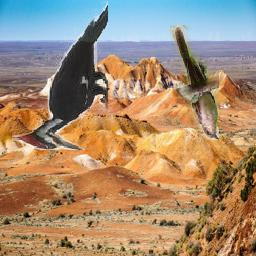Cuckoo: (171, 26, 220, 141)
Woodpecker: (12, 2, 108, 151)
